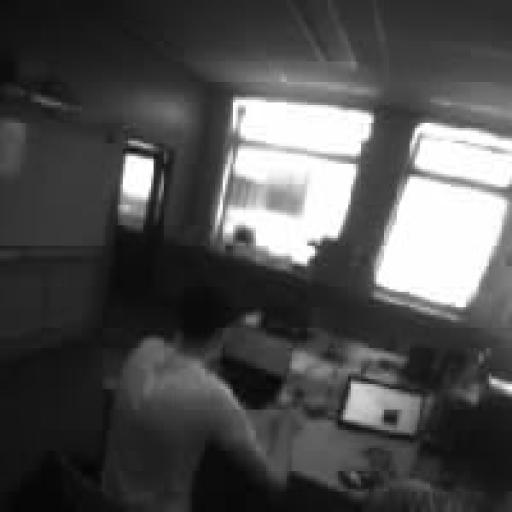human: (103, 287, 286, 511), (364, 479, 463, 511)
